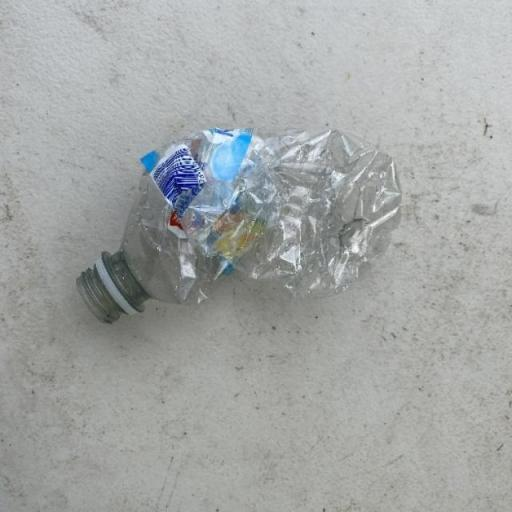plastic: (76, 126, 406, 324)
